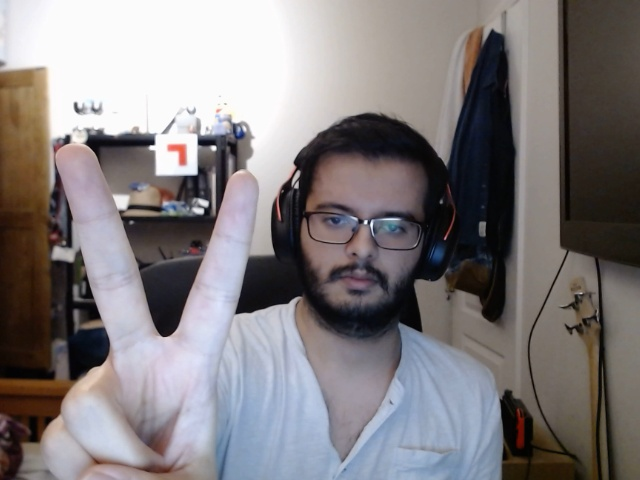Peace: (33, 138, 263, 480)
